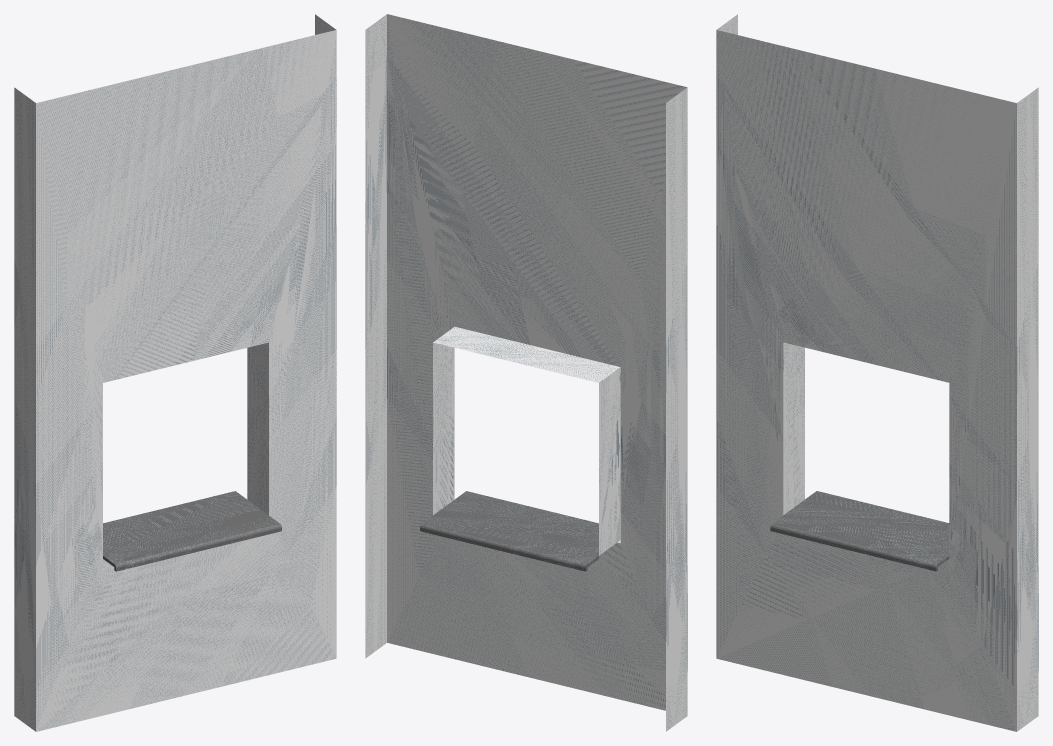
Rendered from BlockWall_Sluise_os_[200x400x025]_112x110x[100].dae.
The picture shows the model from 3 angles, left to right: view 1: azimuth 30°, elevation 25°; view 2: azimuth 150°, elevation 25°; view 3: azimuth 330°, elevation 25°; orthographic projection.
Parts seen in each view (by area): view 1: group_0 (×3); view 2: group_0 (×3); view 3: group_0 (×3).
Boxes of the visible parts, left/top/right/bottom form: group_0 (×3): left=14, top=14, right=336, bottom=731; group_0 (×3): left=365, top=14, right=687, bottom=731; group_0 (×3): left=716, top=14, right=1038, bottom=731.
Bounding box in the file's own units: 78.74 × 21.65 × 157.
